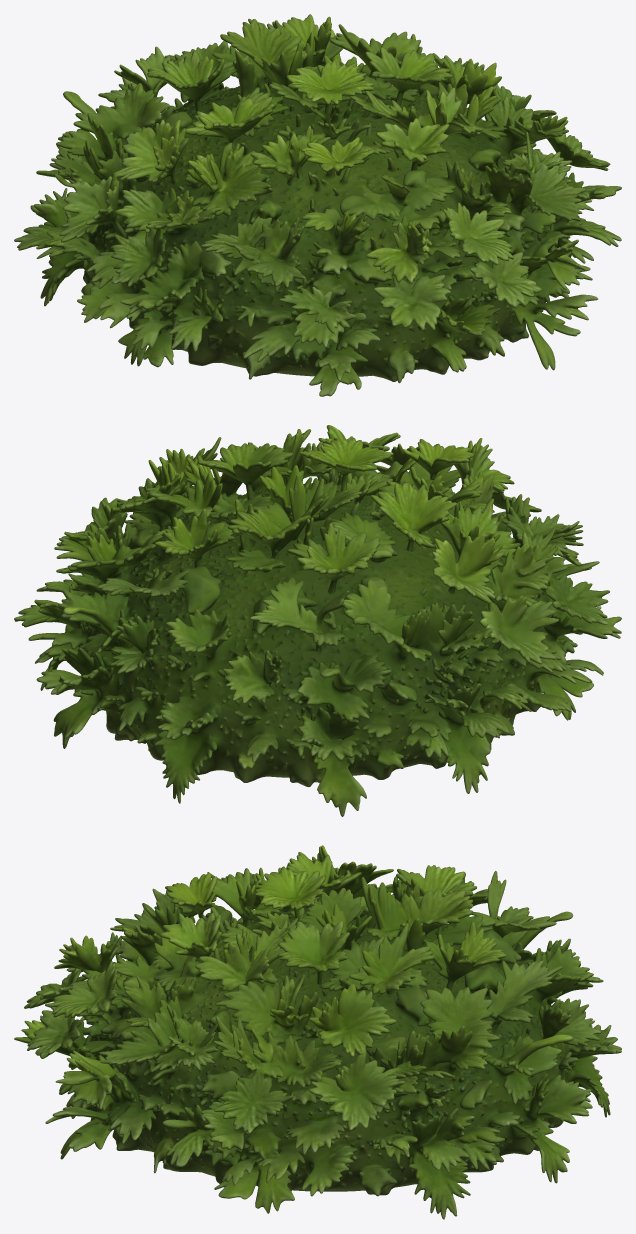
File: club-moss.glb
3 renders of one model, top to bottom at view 1: azimuth 30°, elevation 25°; view 2: azimuth 150°, elevation 25°; view 3: azimuth 270°, elevation 25°, orthographic. The views are drawn at different scales.
Parts seen in each view (by area): view 1: tripo_node_bfe83eef-3f3b-4c33-b1cf-08a50305a54c; view 2: tripo_node_bfe83eef-3f3b-4c33-b1cf-08a50305a54c; view 3: tripo_node_bfe83eef-3f3b-4c33-b1cf-08a50305a54c.
Part boxes in pixels (<box>): tripo_node_bfe83eef-3f3b-4c33-b1cf-08a50305a54c: <box>14,14,621,396</box>; tripo_node_bfe83eef-3f3b-4c33-b1cf-08a50305a54c: <box>14,425,621,816</box>; tripo_node_bfe83eef-3f3b-4c33-b1cf-08a50305a54c: <box>14,845,621,1219</box>.
Size of the model in its own units: 0.9012 by 0.4293 by 0.9838.
1 material, 1 textured.
